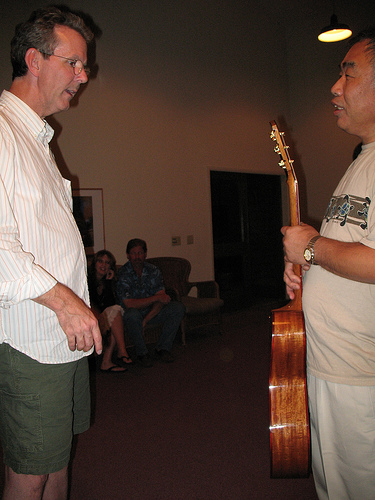guitar: (267, 124, 316, 480)
